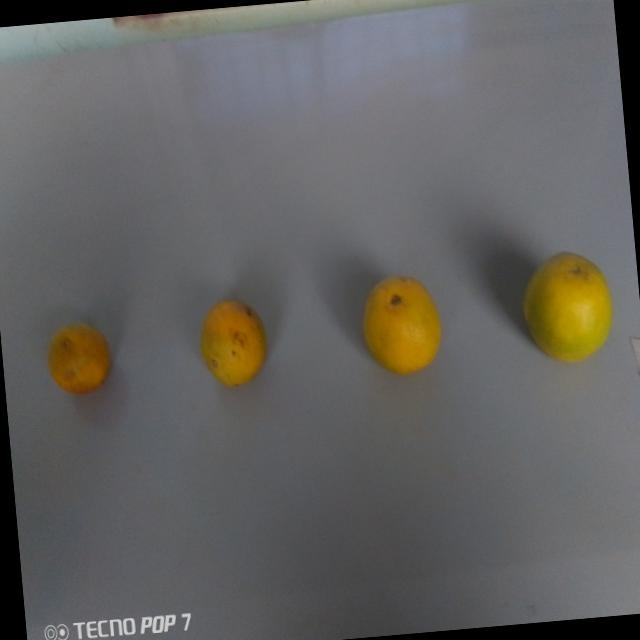agrume: (516, 240, 621, 372), (353, 259, 447, 390), (37, 303, 125, 408), (195, 294, 274, 390)
